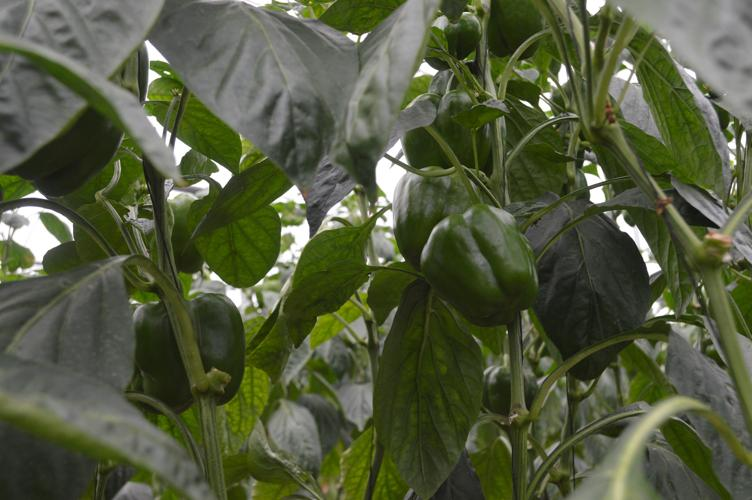BellPepper: (409, 199, 553, 340), (134, 292, 253, 407), (398, 157, 483, 243), (469, 357, 544, 433)
